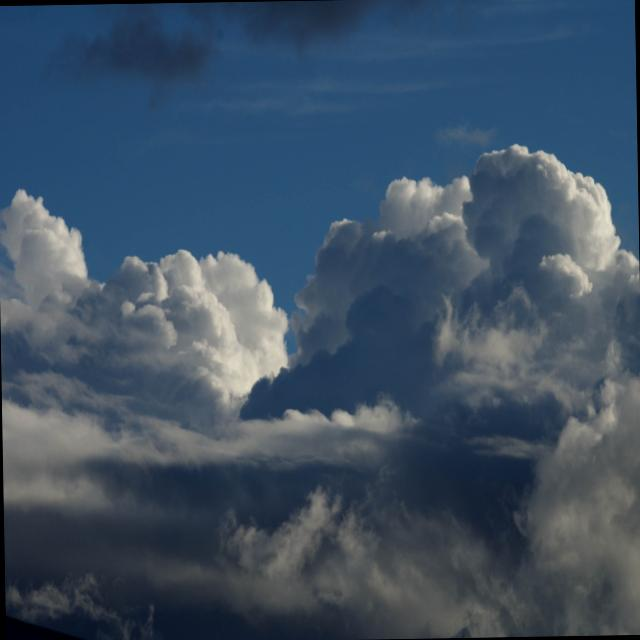cumulonimbus: (283, 135, 640, 640)
